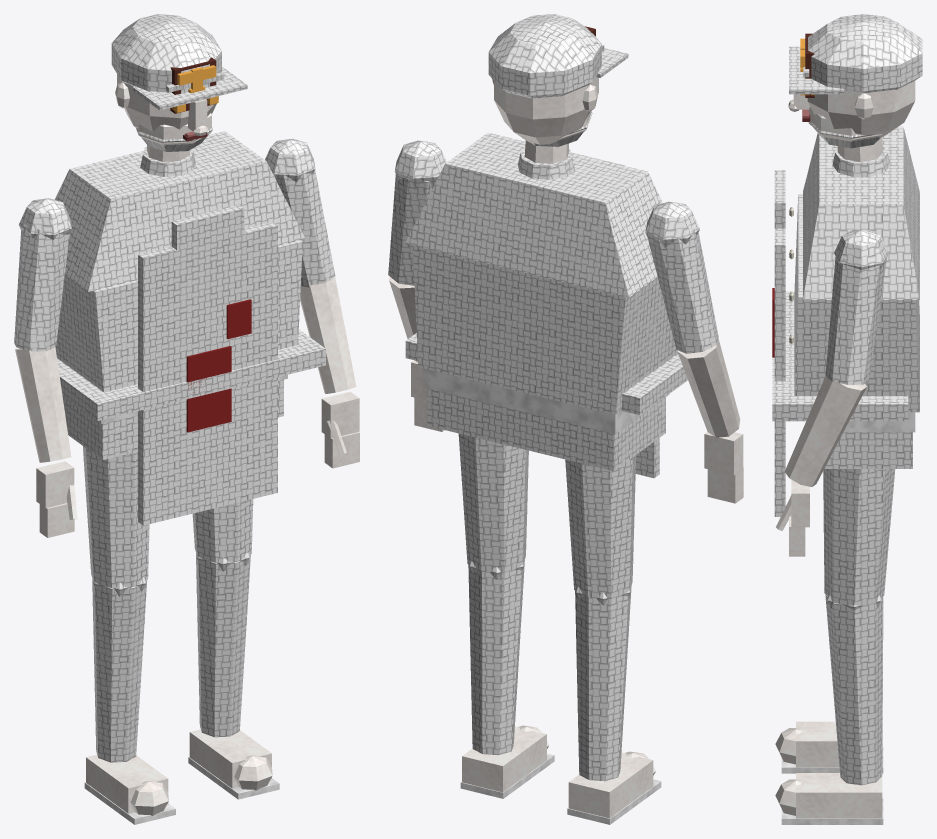
File: macellaio.obj
3 views of the same model, side by side, from view 1: azimuth 30°, elevation 25°; view 2: azimuth 150°, elevation 25°; view 3: azimuth 270°, elevation 25° (orthographic). The views are drawn at different scales.
Parts seen in each view (by area): view 1: tessuto_003, tessuto_000, pelle_007, tessuto_016, pelle_001, liscio_008, gomma_002, marchio_018, pelle_009; view 2: tessuto_003, tessuto_000, pelle_007, tessuto_016, pelle_001, gomma_004, gomma_002; view 3: tessuto_003, tessuto_000, pelle_007, tessuto_016, pelle_001, gomma_002, gomma_004, capelli_015.
Part boxes in pixels (x1,y1,x2,y2): tessuto_003: [14, 131, 335, 525]; tessuto_000: [62, 379, 283, 762]; pelle_007: [15, 74, 359, 537]; tessuto_016: [111, 14, 247, 110]; pelle_001: [86, 729, 272, 815]; liscio_008: [186, 299, 251, 432]; gomma_002: [84, 757, 279, 824]; marchio_018: [171, 65, 218, 112]; pelle_009: [188, 99, 208, 135]; tessuto_003: [388, 132, 718, 478]; tessuto_000: [427, 388, 665, 781]; pelle_007: [389, 77, 743, 503]; tessuto_016: [488, 14, 628, 98]; pelle_001: [462, 725, 655, 818]; gomma_004: [423, 368, 669, 433]; gomma_002: [460, 753, 661, 824]; tessuto_003: [772, 126, 919, 516]; tessuto_000: [823, 432, 912, 785]; pelle_007: [776, 81, 915, 556]; tessuto_016: [789, 14, 922, 94]; pelle_001: [775, 721, 882, 818]; gomma_002: [781, 747, 883, 824]; gomma_004: [844, 412, 915, 432]; capelli_015: [809, 121, 880, 148].
Size of the model in its own units: 0.781 by 1.78 by 0.315.
19 materials, 11 textured.
